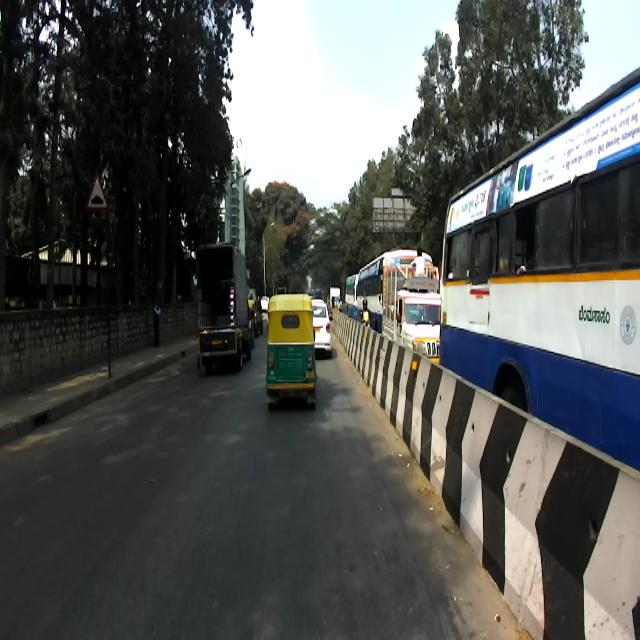auto ahead at: (264, 296, 318, 409)
sign board ahead at: (86, 173, 107, 217)
truck ahead at: (197, 237, 253, 374)
